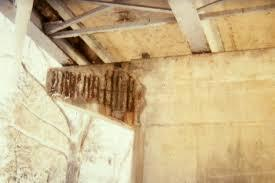spalling: (46, 69, 146, 128)
